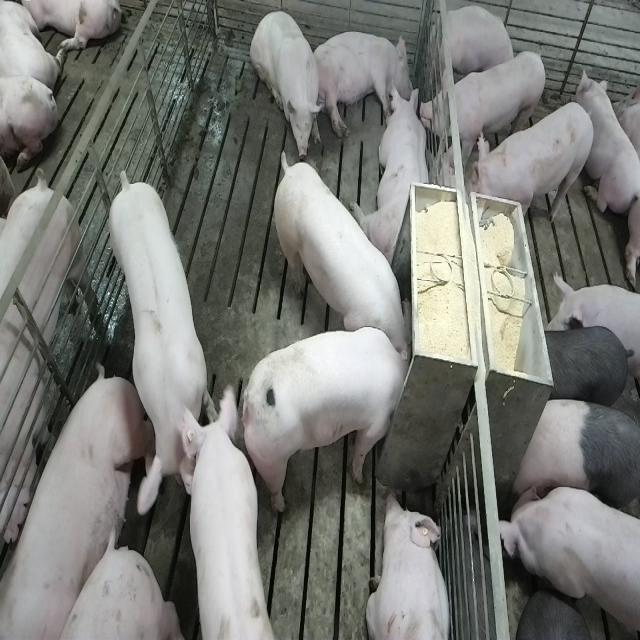Feeding: (247, 325, 420, 515), (270, 142, 409, 356)
Lateral_lying: (311, 29, 414, 140)
Sitting: (250, 6, 324, 160)
Standing: (107, 168, 221, 506), (0, 175, 98, 562), (175, 387, 277, 640), (499, 481, 638, 640), (510, 394, 638, 523), (471, 100, 598, 226), (420, 47, 549, 160), (532, 323, 635, 411)
Sternal_lying: (356, 85, 432, 268), (365, 490, 453, 640), (577, 69, 638, 221), (434, 4, 516, 90)
